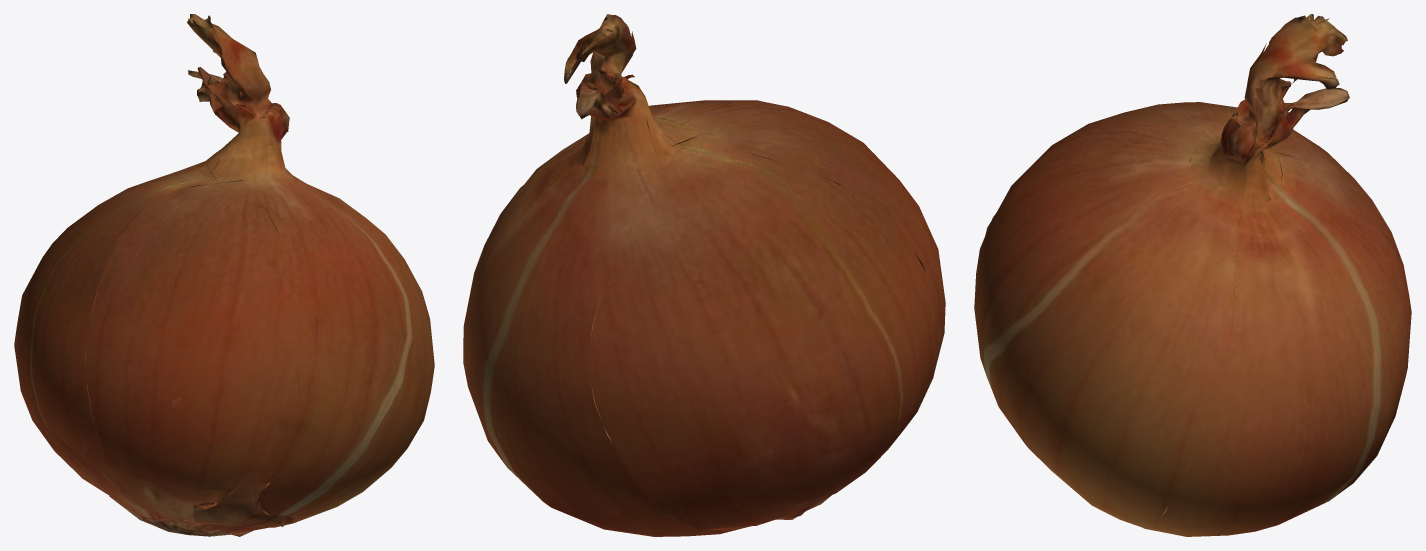
File: yellow_onion.glb
3 views of the same model, side by side, from view 1: azimuth 30°, elevation 25°; view 2: azimuth 150°, elevation 25°; view 3: azimuth 270°, elevation 25° (orthographic). The views are drawn at different scales.
Visible parts, largest first — view 1: yellow_onion; view 2: yellow_onion; view 3: yellow_onion.
Part boxes in pixels (left/top/right/bottom): yellow_onion: left=14, top=14, right=434, bottom=536; yellow_onion: left=463, top=14, right=945, bottom=536; yellow_onion: left=974, top=14, right=1411, bottom=536.
Size of the model in its own units: 0.0724 by 0.0866 by 0.0688.
Materials: 1 (1 with a texture image).
